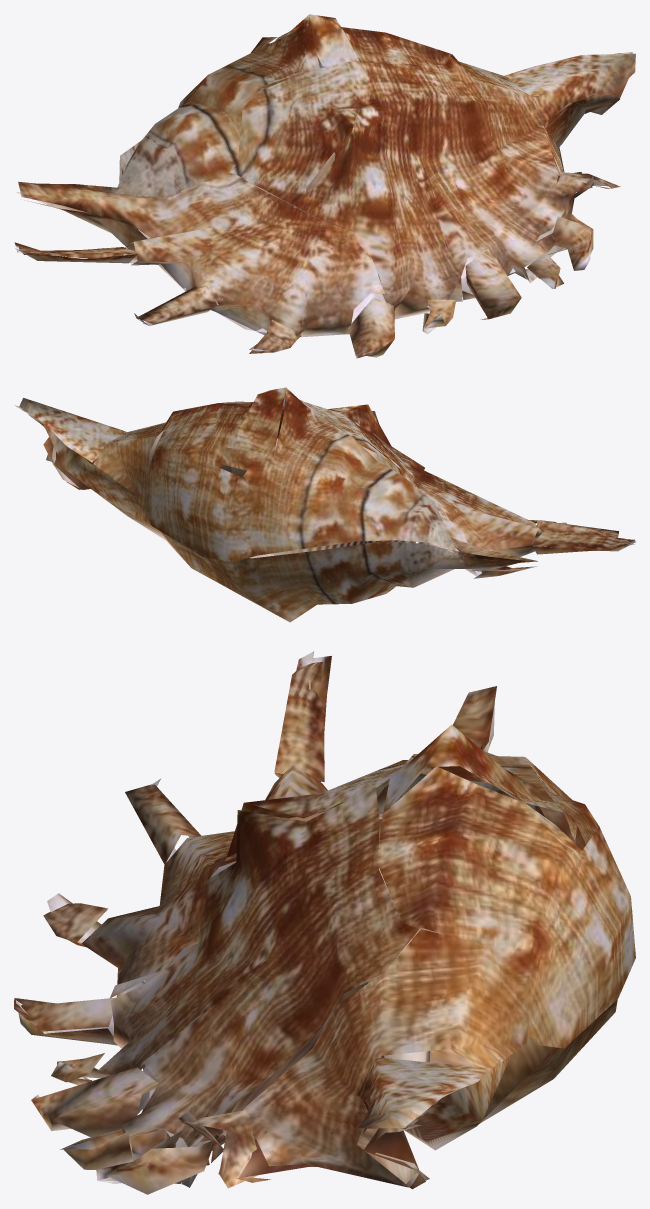
Rendered from ph_lambis_shell.glb.
3 views of the same model, one above another, from view 1: azimuth 30°, elevation 25°; view 2: azimuth 150°, elevation 25°; view 3: azimuth 270°, elevation 25° (orthographic). The views are drawn at different scales.
Parts seen in each view (by area): view 1: lambis_shell; view 2: lambis_shell; view 3: lambis_shell.
Part boxes in pixels (x1,y1,x2,y2): lambis_shell: (14,14,635,358); lambis_shell: (15,387,635,622); lambis_shell: (14,651,635,1194).
Size of the model in its own units: 0.1396 by 0.0477 by 0.0738.
1 material, 1 textured.
